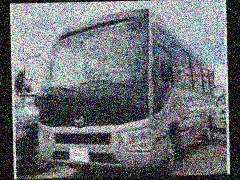bus: (31, 4, 216, 179)
